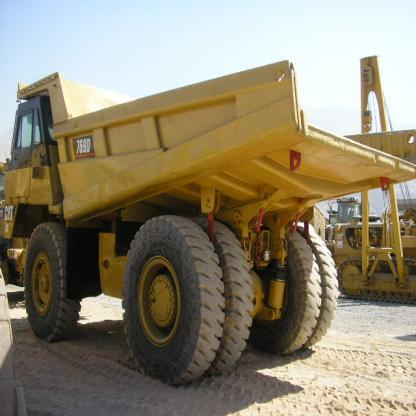dump_truck: (6, 50, 416, 383)
